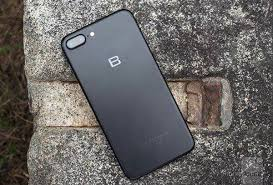bphone: (50, 7, 198, 180)
